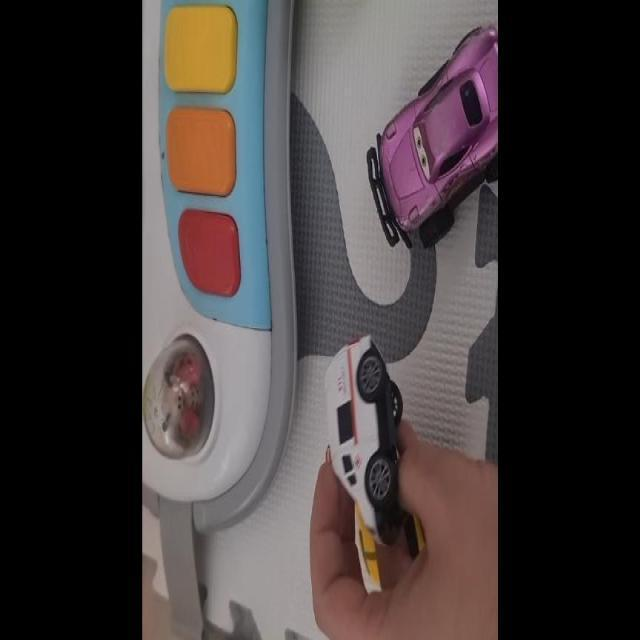hard-toy: (368, 26, 498, 247), (328, 338, 422, 591)
